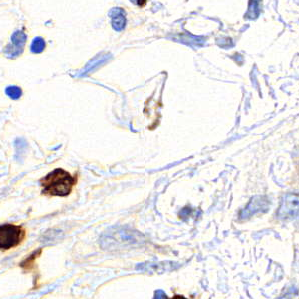Lymphocyte: (39, 167, 77, 198)
